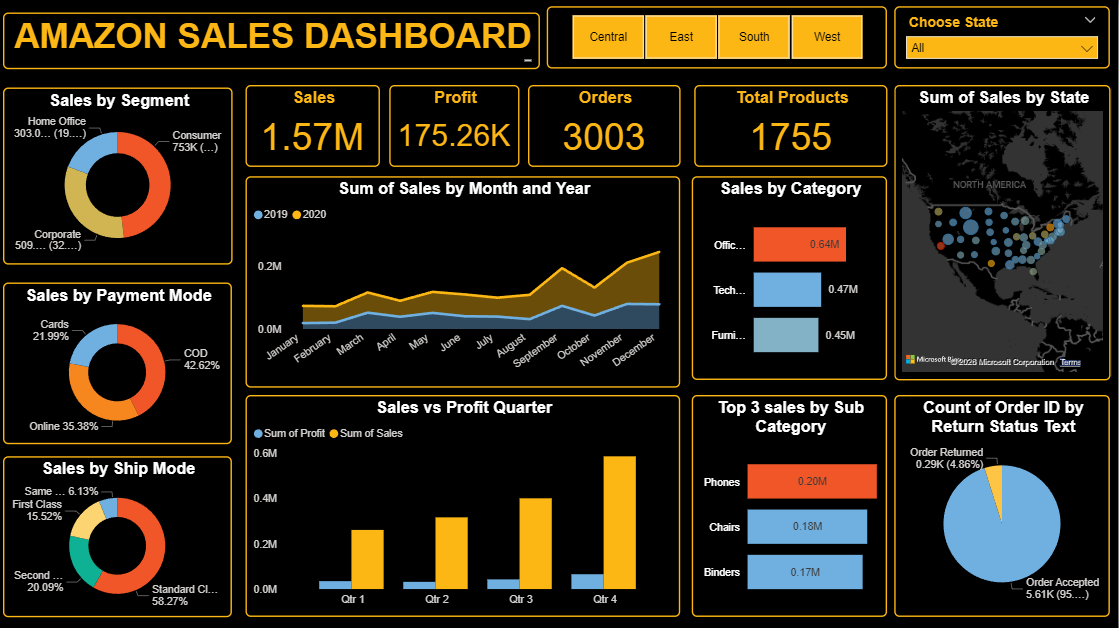

The dashboard page shown, as its layout file describes it:
{"tool":"powerbi","page":{"name":"Page 1","canvas":[1280,720],"ordinal":0},"visuals":[{"type":"clusteredBarChart","title":" Sales by Category","fields":{"Category":["Amazon Store Sales Data xlsx - Sheet1 (1).Category"],"Y":["Sum(Amazon Store Sales Data xlsx - Sheet1 (1).Sales)"]},"box":[792.6,201.2,223.3,233.1],"z":0},{"type":"donutChart","title":"Sales by Segment","fields":{"Category":["Amazon Store Sales Data xlsx - Sheet1 (1).Segment"],"Y":["Sum(Amazon Store Sales Data xlsx - Sheet1 (1).Sales)"]},"box":[6.2,100,262.5,202.5],"z":1000},{"type":"barChart","title":"Top 3 sales by Sub Category","fields":{"Category":["Amazon Store Sales Data xlsx - Sheet1 (1).Sub-Category"],"Y":["Sum(Amazon Store Sales Data xlsx - Sheet1 (1).Sales)"],"Series":["Amazon Store Sales Data xlsx - Sheet1 (1).Sub-Category"]},"box":[792.6,451.5,223.3,254],"z":2000},{"type":"textbox","title":"AMAZON SALES DASHBOARD","box":[6.2,13.8,613.8,65],"z":3000},{"type":"donutChart","title":"Sales by Payment Mode","fields":{"Category":["Amazon Store Sales Data xlsx - Sheet1 (1).Payment Mode"],"Y":["Sum(Amazon Store Sales Data xlsx - Sheet1 (1).Sales)"]},"box":[6.2,322.5,261.2,185],"z":4000},{"type":"donutChart","title":" Sales by Ship Mode","fields":{"Category":["Amazon Store Sales Data xlsx - Sheet1 (1).Ship Mode"],"Y":["Sum(Amazon Store Sales Data xlsx - Sheet1 (1).Sales)"]},"box":[5.7,521.4,261.4,184.3],"z":5000},{"type":"card","title":"Sales","fields":{"Values":["Sum(Amazon Store Sales Data xlsx - Sheet1 (1).Sales)"]},"box":[283.4,96.9,153.4,93.3],"z":6000},{"type":"card","title":"Profit","fields":{"Values":["Sum(Amazon Store Sales Data xlsx - Sheet1 (1).Profit)"]},"box":[447.9,96.9,148.5,93.3],"z":7000},{"type":"card","title":"Orders","fields":{"Values":["Amazon Store Sales Data xlsx - Sheet1 (1).Orders"]},"box":[606.1,96.9,174.2,93.3],"z":8000},{"type":"card","title":"Total Products","fields":{"Values":["Amazon Store Sales Data xlsx - Sheet1 (1).Total Products"]},"box":[795.1,96.9,220.9,93.3],"z":9000},{"type":"map","title":"Sum of Sales by State","fields":{"Category":["Amazon Store Sales Data xlsx - Sheet1 (1).State"],"Size":["Avg(Amazon Store Sales Data xlsx - Sheet1 (1).Sales)"]},"box":[1023.8,97.5,247.5,337.5],"z":10000},{"type":"stackedAreaChart","fields":{"Category":["Amazon Store Sales Data xlsx - Sheet1 (1).Order Date.Variation.Date Hierarchy.Month"],"Y":["Sum(Amazon Store Sales Data xlsx - Sheet1 (1).Sales)"],"Series":["Amazon Store Sales Data xlsx - Sheet1 (1).Order Date.Variation.Date Hierarchy.Year"]},"box":[283.4,201.2,496.9,241.7],"z":11000},{"type":"clusteredColumnChart","title":"Sales vs Profit Quarter","fields":{"Category":["Amazon Store Sales Data xlsx - Sheet1 (1).Order Date.Variation.Date Hierarchy.Quarter"],"Y":["Sum(Amazon Store Sales Data xlsx - Sheet1 (1).Profit)","Sum(Amazon Store Sales Data xlsx - Sheet1 (1).Sales)"]},"box":[283.4,451.5,496.9,254],"z":12000},{"type":"pieChart","fields":{"Y":["CountNonNull(Amazon Store Sales Data xlsx - Sheet1 (1).Order ID)"],"Category":["Amazon Store Sales Data xlsx - Sheet1 (1).Return Status Text"]},"box":[1024,452,246.7,253.3],"z":13000},{"type":"slicer","fields":{"Values":["Amazon Store Sales Data xlsx - Sheet1 (1).Region"]},"box":[627.5,7.5,388.8,71.2],"z":14000},{"type":"slicer","fields":{"Values":["Amazon Store Sales Data xlsx - Sheet1 (1).State"]},"box":[1023.8,7.5,246.2,71.2],"z":14001}]}

Visuals, with their boxes in screenshot pixels (x1, y1, x2, y2), scaled from the page's 1280x720 canvas onto the 1119x628 screenshot:
" Sales by Category" clusteredBarChart: select_region(693, 175, 888, 379)
"Sales by Segment" donutChart: select_region(5, 87, 235, 264)
"Top 3 sales by Sub Category" barChart: select_region(693, 394, 888, 615)
"AMAZON SALES DASHBOARD" textbox: select_region(5, 12, 542, 69)
"Sales by Payment Mode" donutChart: select_region(5, 281, 234, 443)
" Sales by Ship Mode" donutChart: select_region(5, 455, 234, 616)
"Sales" card: select_region(248, 85, 382, 166)
"Profit" card: select_region(392, 85, 521, 166)
"Orders" card: select_region(530, 85, 682, 166)
"Total Products" card: select_region(695, 85, 888, 166)
"Sum of Sales by State" map: select_region(895, 85, 1111, 379)
stackedAreaChart - Amazon Store Sales Data xlsx - Sheet1 (1).Order Date.Variation.Date Hierarchy.Month x Sum(Amazon Store Sales Data xlsx - Sheet1 (1).Sales): select_region(248, 175, 682, 386)
"Sales vs Profit Quarter" clusteredColumnChart: select_region(248, 394, 682, 615)
pieChart - CountNonNull(Amazon Store Sales Data xlsx - Sheet1 (1).Order ID) x Amazon Store Sales Data xlsx - Sheet1 (1).Return Status Text: select_region(895, 394, 1111, 615)
slicer - Amazon Store Sales Data xlsx - Sheet1 (1).Region: select_region(549, 7, 888, 69)
slicer - Amazon Store Sales Data xlsx - Sheet1 (1).State: select_region(895, 7, 1110, 69)
